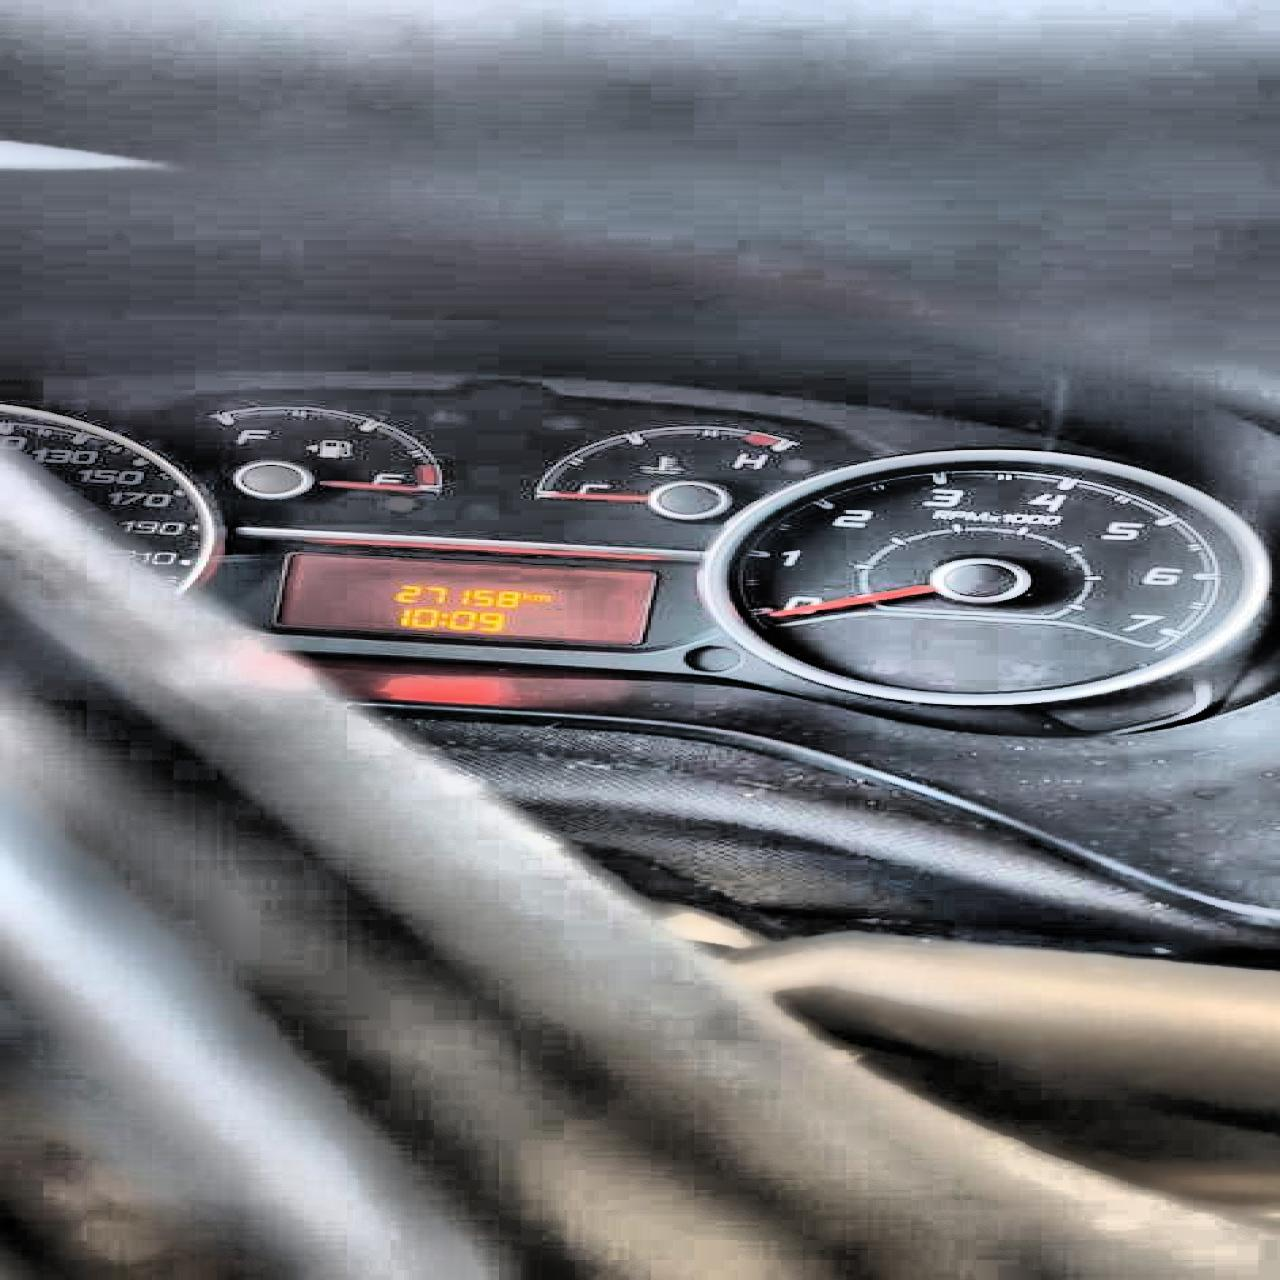0: (409, 607, 436, 627), (448, 610, 475, 629)
1: (393, 606, 410, 626), (452, 587, 469, 605)
2: (394, 584, 421, 602)
5: (469, 587, 493, 606)
7: (421, 585, 444, 602)
8: (493, 591, 518, 607)
9: (475, 610, 502, 631)
X: (529, 592, 550, 601), (436, 611, 448, 625), (520, 591, 529, 600)
odometer: (263, 547, 665, 648)
